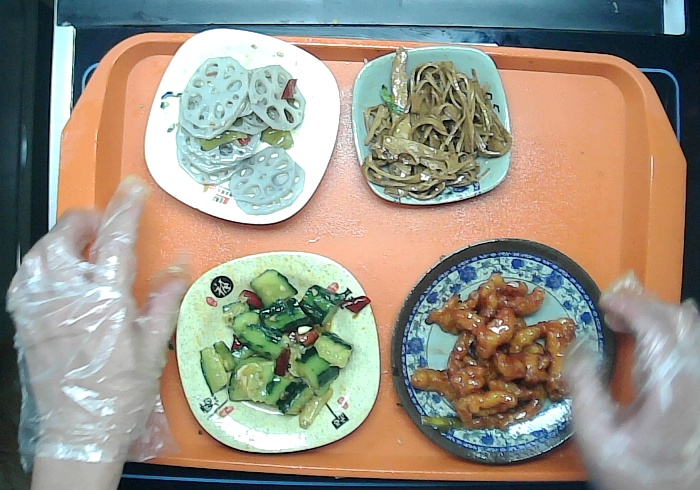NLDX-Bai_Se_Xiao_Fang_Die: (141, 23, 344, 230)
NLDX-Fu_Zi_Fang_Die: (173, 248, 384, 457)
NLDX-Qing_Hua_Xiao_Fang_Die: (344, 38, 516, 210)
NLDX-Qing_Hua_Yuan_Die: (384, 234, 622, 469)
